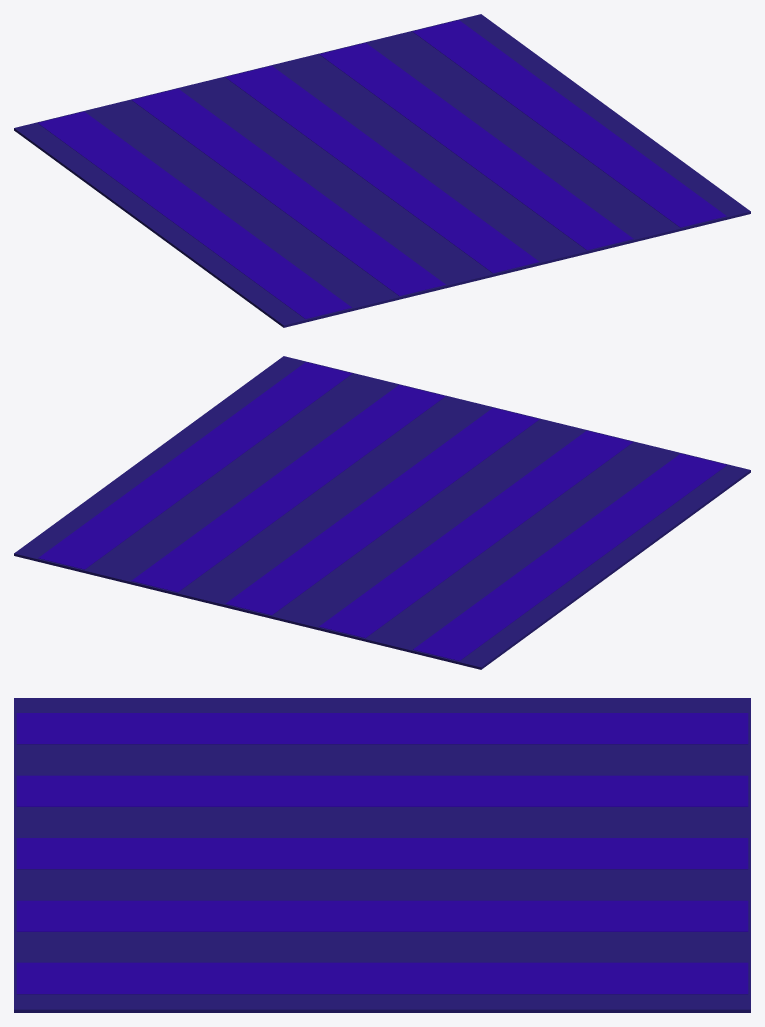
The model's file is ground10.gltf.
3 views of the same model, one above another, from view 1: azimuth 30°, elevation 25°; view 2: azimuth 150°, elevation 25°; view 3: azimuth 270°, elevation 25° (orthographic). The views are drawn at different scales.
Visible parts, largest first — view 1: Cube, Cube.003, Cube.001, Cube.002, Cube.004, Cube.005; view 2: Cube, Cube.003, Cube.001, Cube.002, Cube.004, Cube.005; view 3: Cube, Cube.003, Cube.001, Cube.002, Cube.004, Cube.005.
Part boxes in pixels (x1=…): Cube: x1=14, y1=14, x2=750, y2=327; Cube.003: x1=412, y1=20, x2=726, y2=227; Cube.001: x1=225, y1=66, x2=539, y2=273; Cube.002: x1=319, y1=43, x2=633, y2=250; Cube.004: x1=132, y1=88, x2=445, y2=296; Cube.005: x1=38, y1=111, x2=351, y2=318; Cube: x1=14, y1=356, x2=750, y2=669; Cube.003: x1=38, y1=362, x2=352, y2=569; Cube.001: x1=225, y1=408, x2=539, y2=615; Cube.002: x1=131, y1=385, x2=445, y2=592; Cube.004: x1=319, y1=430, x2=632, y2=638; Cube.005: x1=413, y1=453, x2=726, y2=660; Cube: x1=14, y1=698, x2=750, y2=1012; Cube.003: x1=16, y1=962, x2=748, y2=994; Cube.001: x1=16, y1=838, x2=748, y2=869; Cube.002: x1=16, y1=900, x2=748, y2=931; Cube.004: x1=16, y1=775, x2=748, y2=806; Cube.005: x1=16, y1=713, x2=748, y2=744.
Bounding box in the file's own units: 20 × 0.12 × 20.
